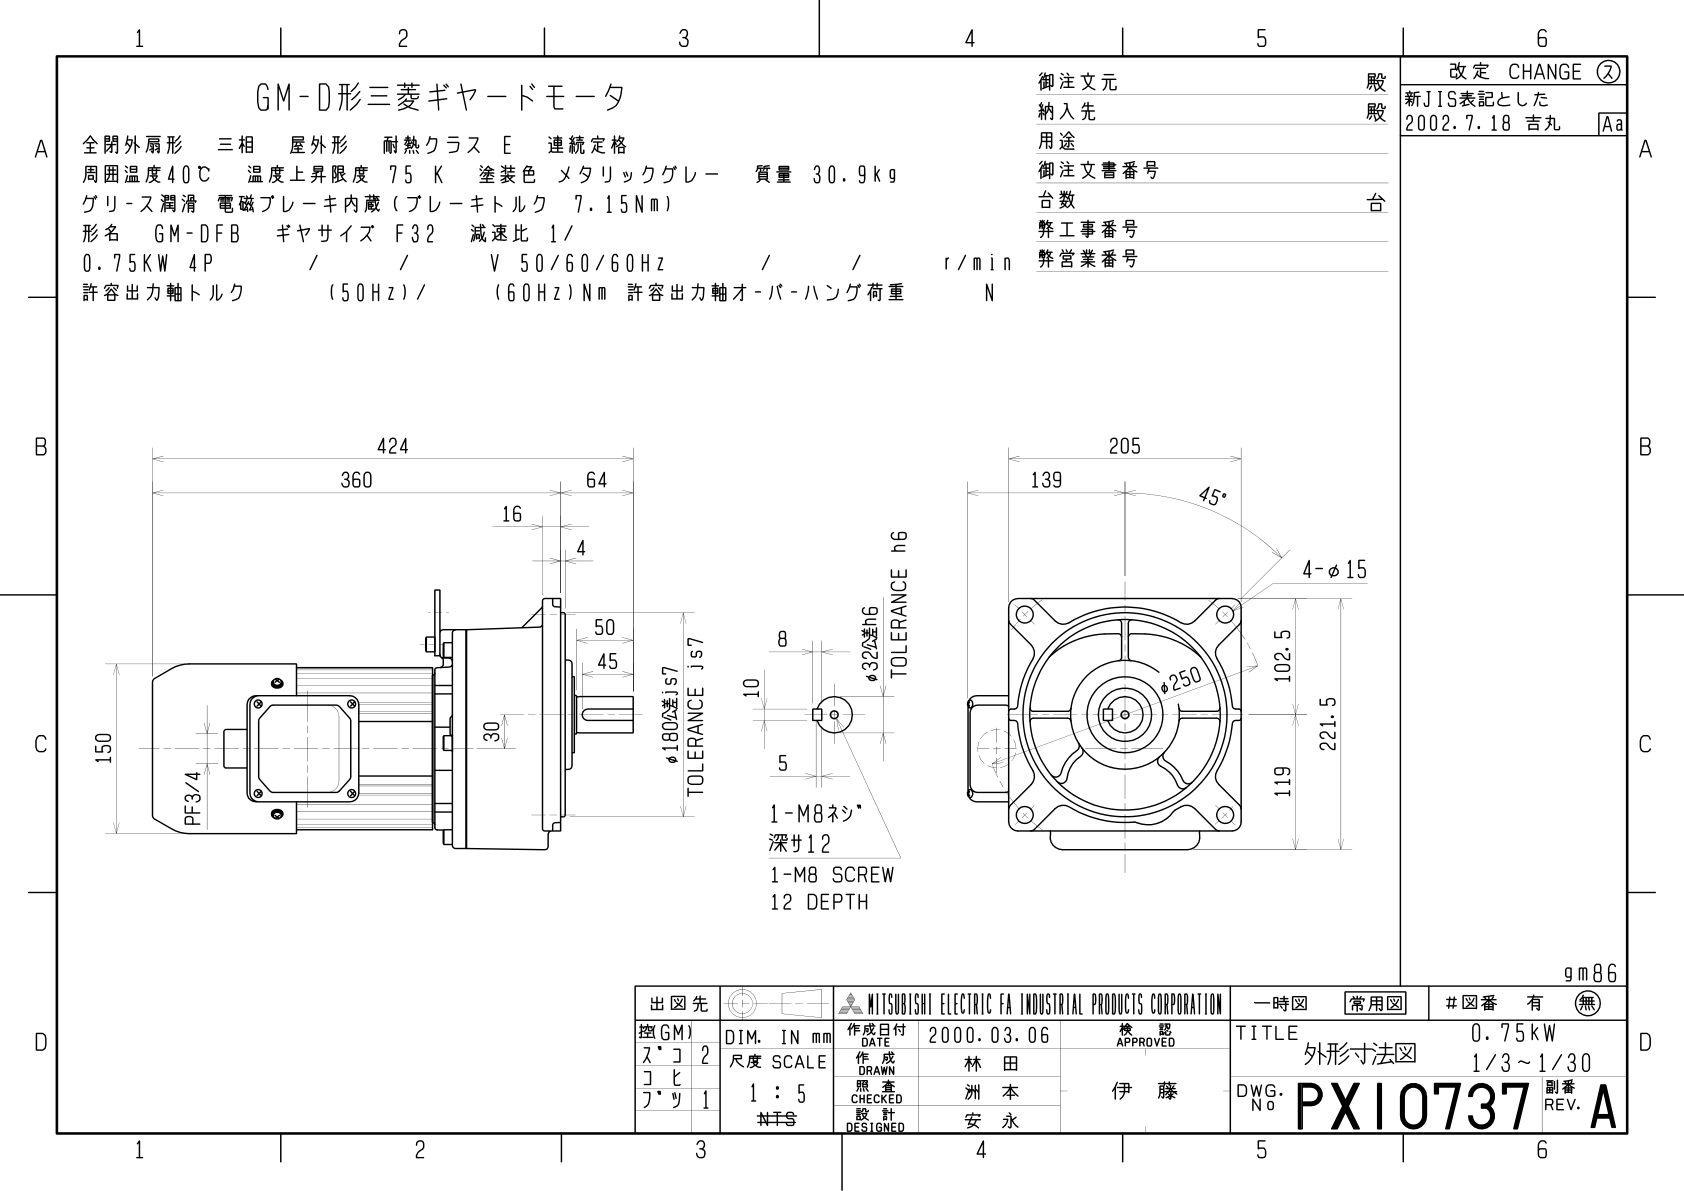GM_D_屋外＿三相_フランジ: (77, 371, 1393, 941)
